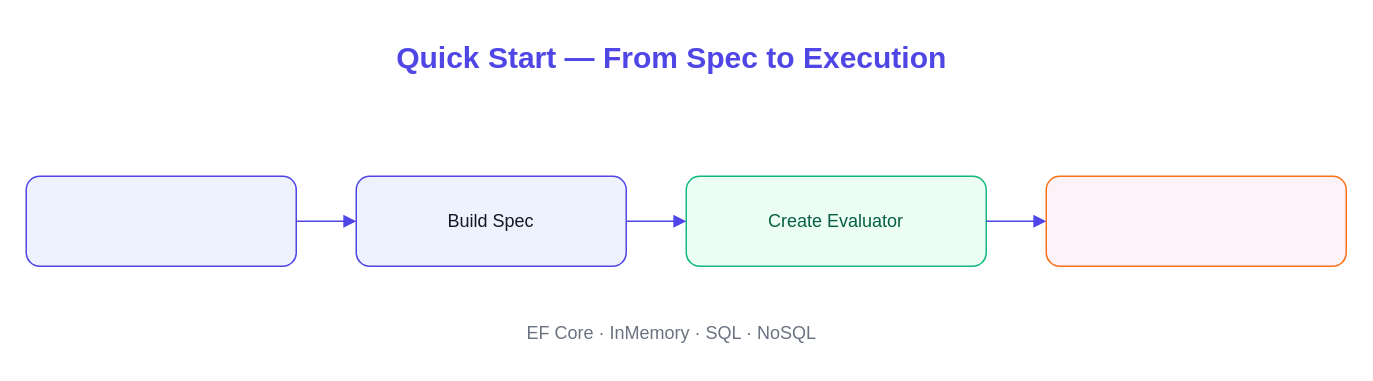
Some shapes in this 1373 by 381 pixel diagram are drawn without their labels. The shapes that lost their labels are listed below. From the top down, each one's box as (x1, y1, x2, y2) in pixels, then its label:
(25, 175, 296, 266): Install Package
(1045, 175, 1346, 266): Execute / Translate
